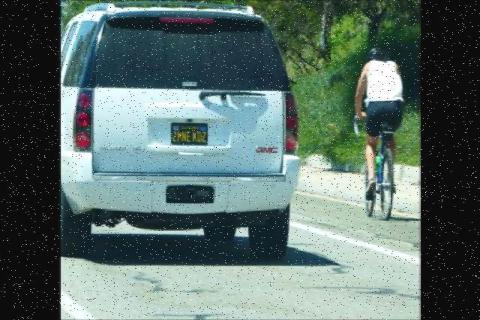LicensePlate: (170, 122, 208, 146)
